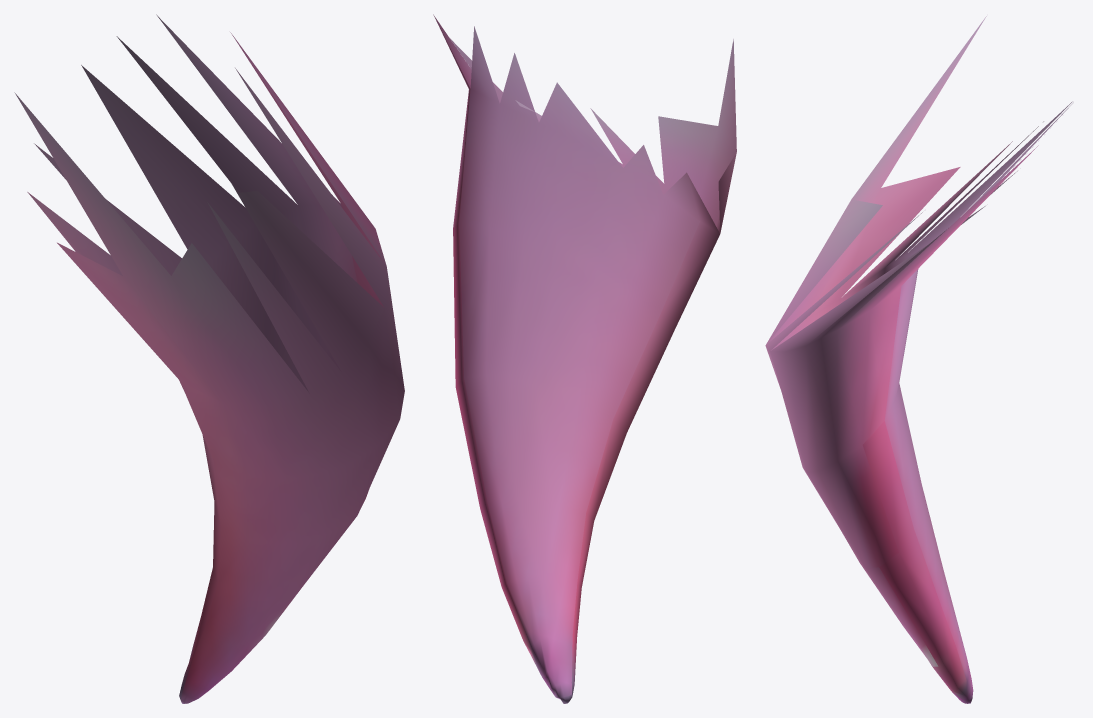
Rendered from Punta4.obj.
3 renders of one model, left to right at view 1: azimuth 30°, elevation 25°; view 2: azimuth 150°, elevation 25°; view 3: azimuth 270°, elevation 25°, orthographic. The views are drawn at different scales.
Parts seen in each view (by area): view 1: Punta4; view 2: Punta4; view 3: Punta4.
Boxes of the visible parts, left/top/right/bottom form: Punta4: left=14, top=14, right=404, bottom=703; Punta4: left=433, top=14, right=736, bottom=703; Punta4: left=765, top=16, right=1073, bottom=703.
Size of the model in its own units: 3.28 by 6.36 by 2.94.
